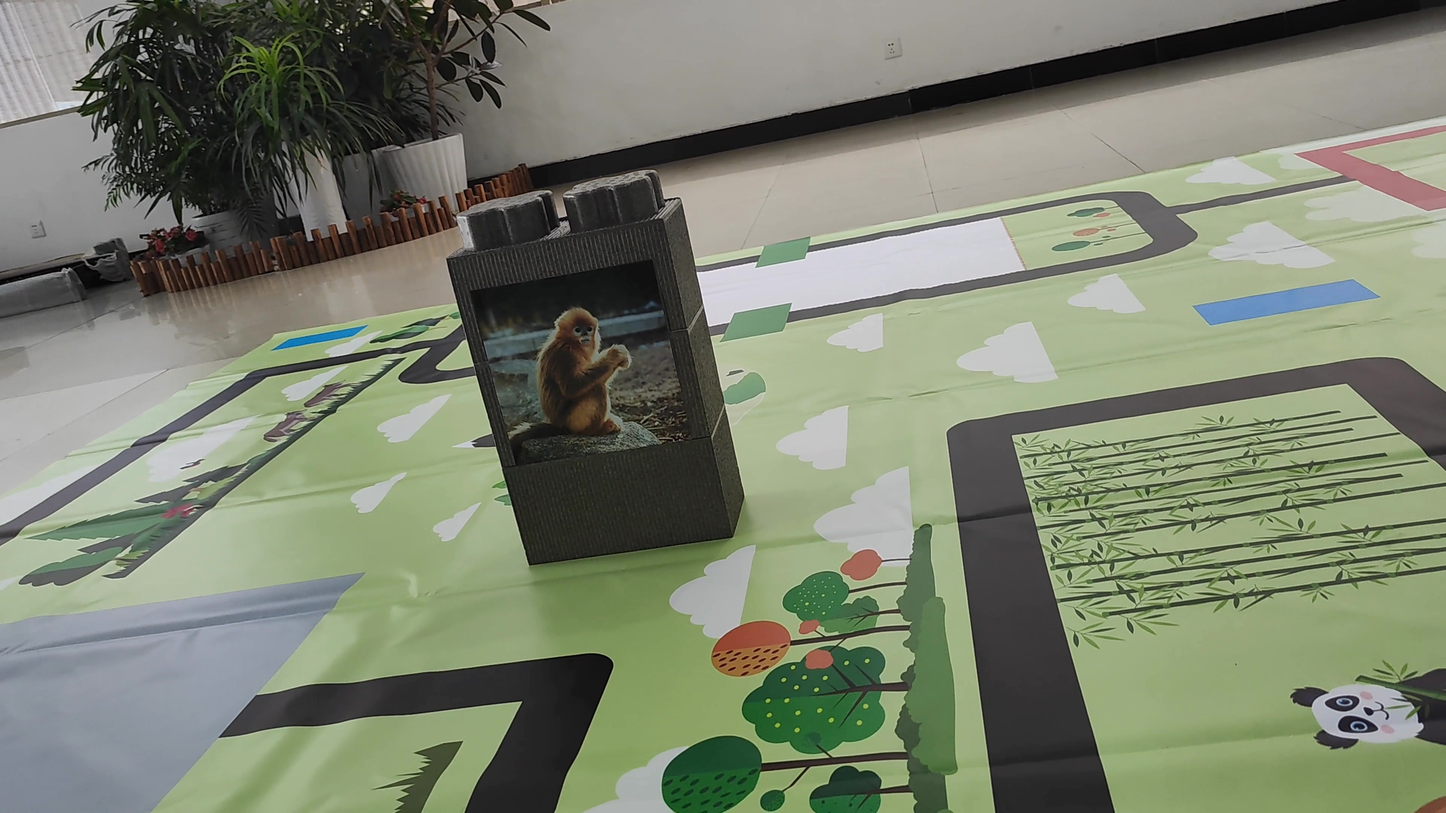monkey: (510, 287, 659, 434)
